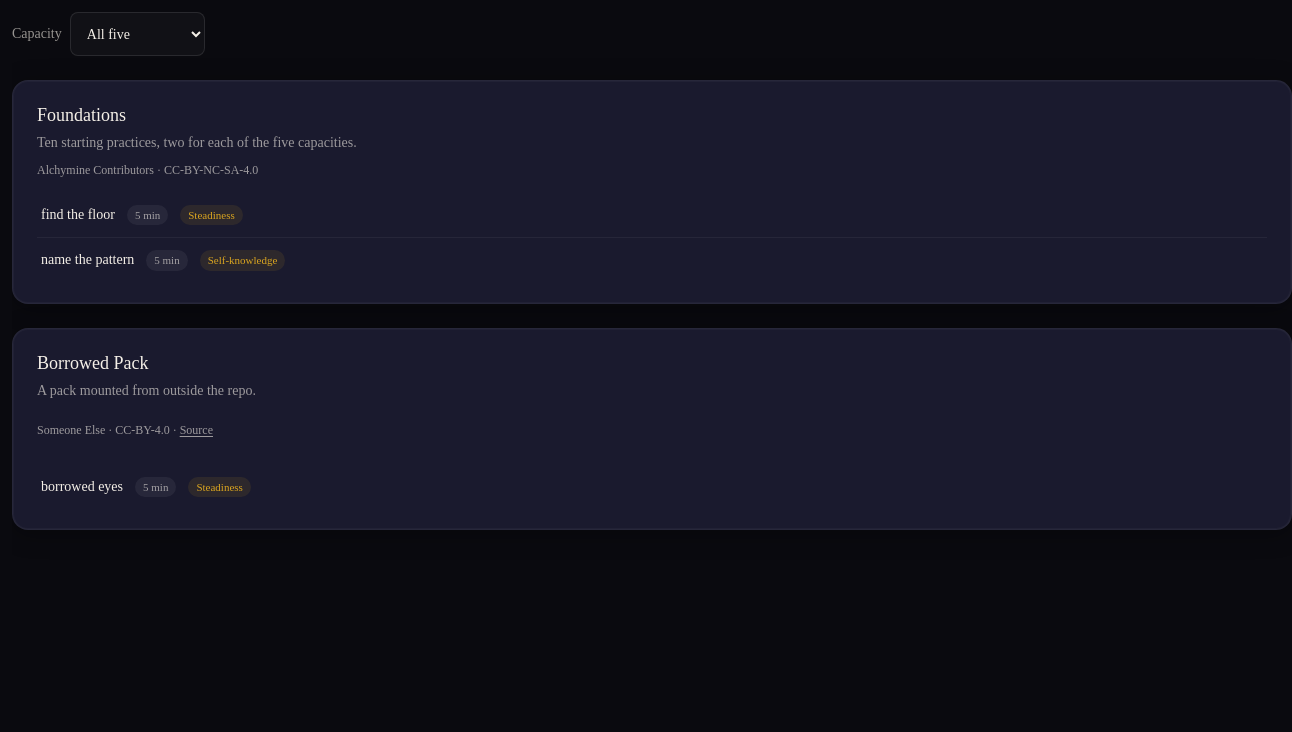
Test: PracticeLibrary › expands a practice to its description on demand
Check: the text "The body of the practice." is not shown
What coordinates should you click on to do the following:
click the button "find the floor 5 min Steadiness"
I would click on:
 (78, 214)
Its box is [37,192,1267,237].
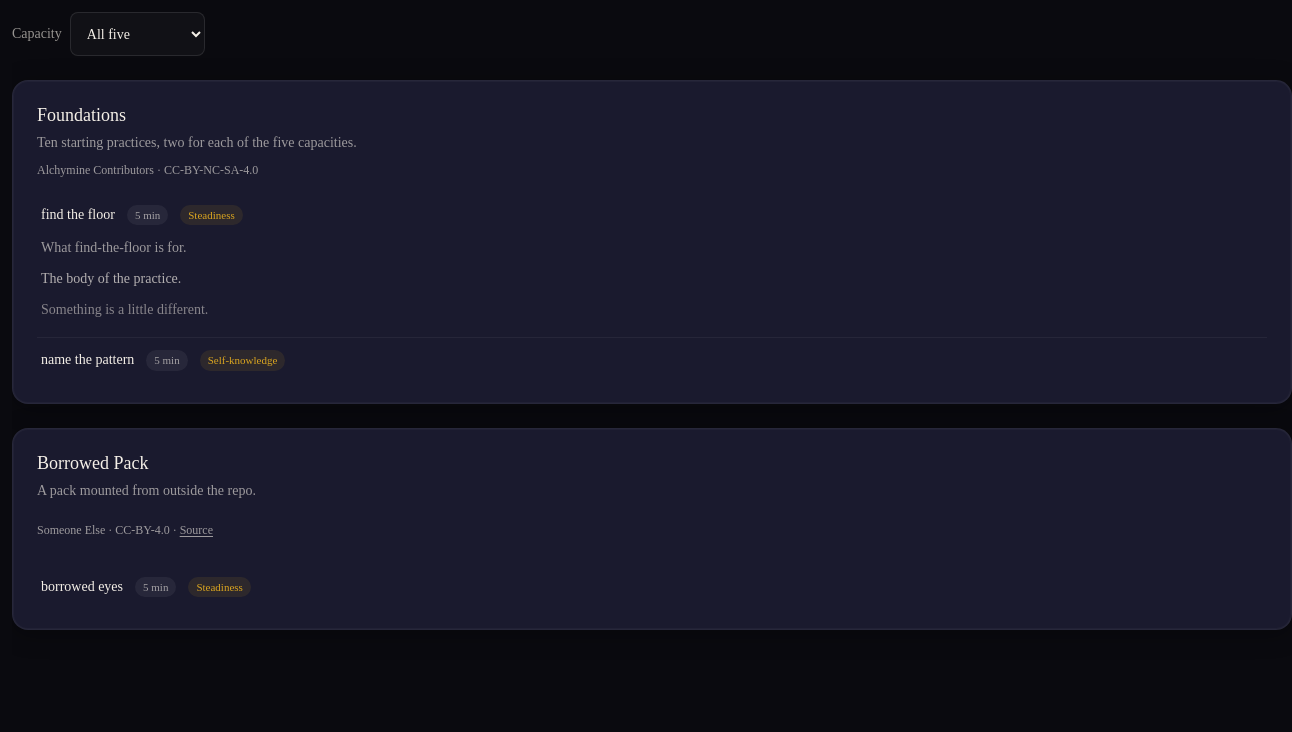
Check: the text "The body of the practice." is shown, box [41,271,181,286]
